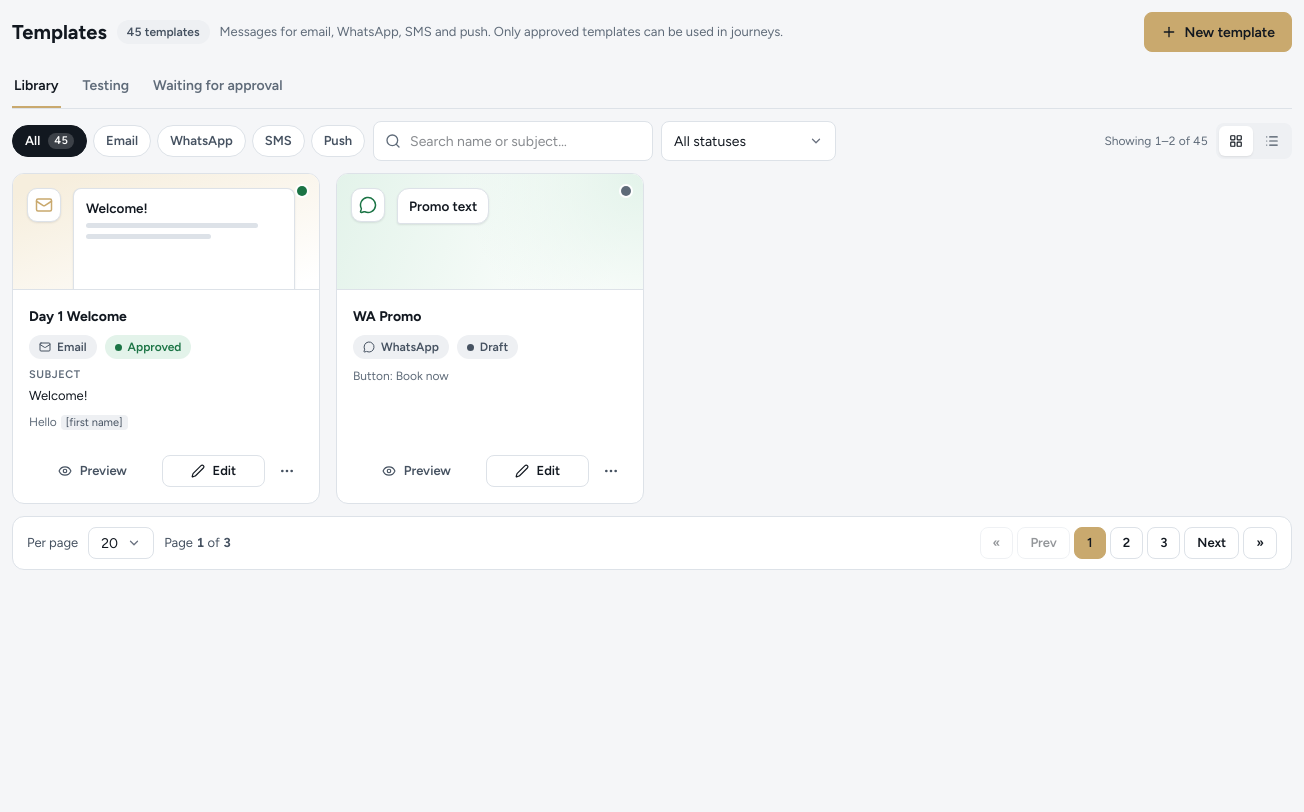
Scenario: Templates page — library › table view lists templates and persists the view mode
Expected: the heading "Day 1 Welcome" is shown, x1=29 y1=308 x2=127 y2=325
Click the button named "Table view". click: (1272, 141)
box: x1=1255 y1=126 x2=1289 y2=156
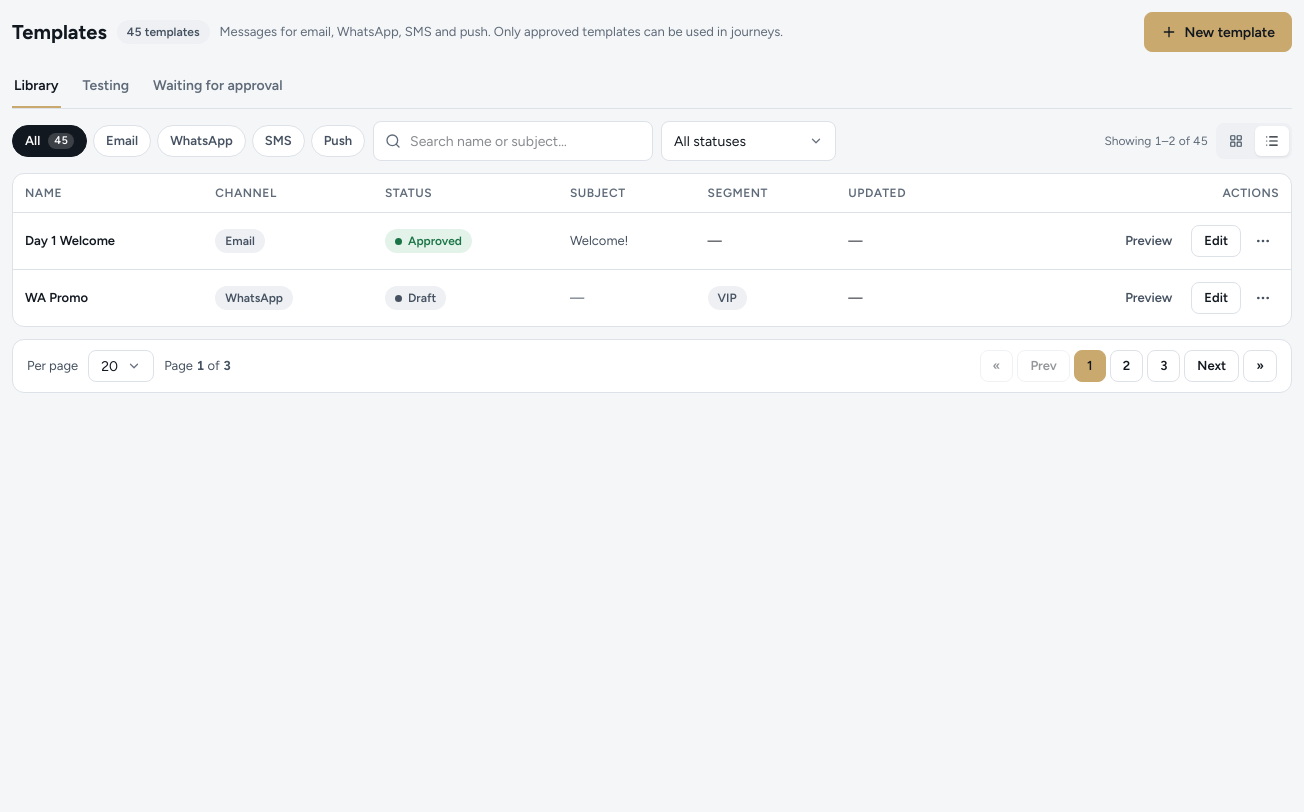
Expected: the button named "More actions for Day 1 Welcome" is shown, x1=1247 y1=225 x2=1279 y2=257
Expected: the column heading "Segment" is shown, x1=696 y1=174 x2=836 y2=212
Expected: the text "VIP" is shown, x1=708 y1=286 x2=747 y2=310
